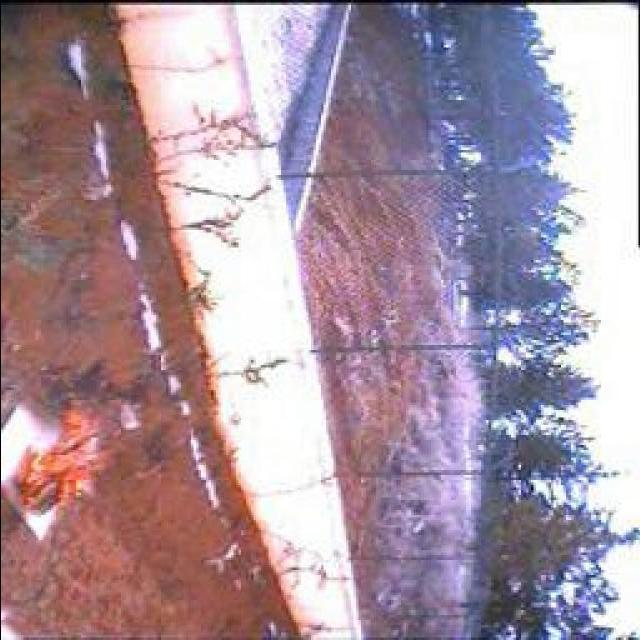Fire: (10, 402, 111, 520)
